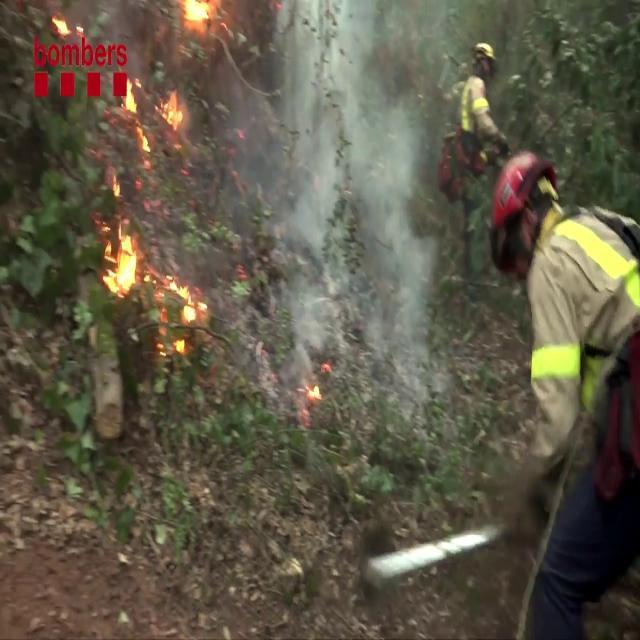Fire: (100, 230, 208, 343), (99, 68, 191, 154), (180, 0, 222, 35)
Smoke: (220, 1, 476, 395)
